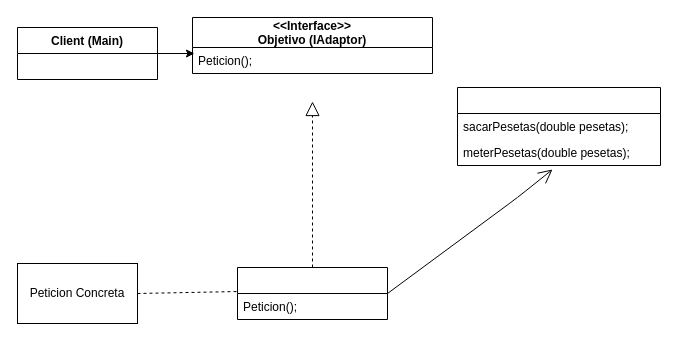
Image size: 678x341. Some labels were removed from this diagram. Each missing label, with the box of its shape:
Adaptable (CajaEuros): (456, 86, 660, 166)
Adaptador: (236, 266, 388, 320)
